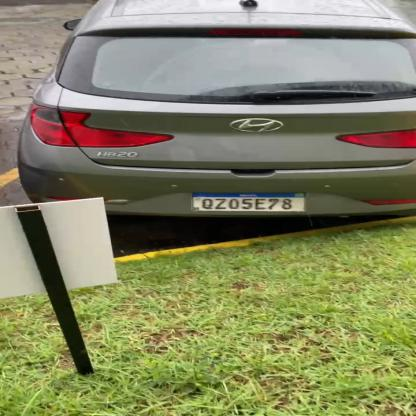Plate: (189, 186, 311, 215)
